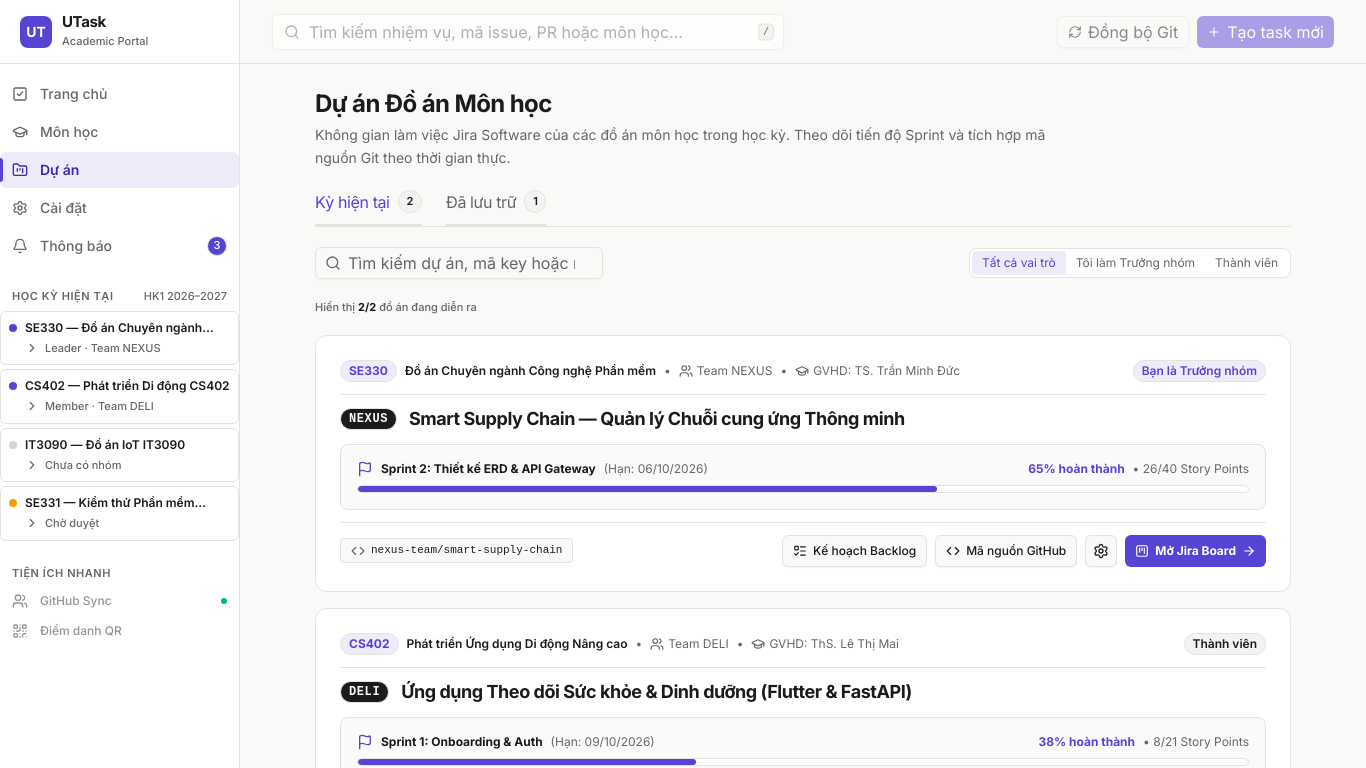
Scenario: projects list route › filters the list by search query
Expected: the heading "Dự án Đồ án Môn học" is shown, [315, 89, 552, 118]
Type "nexus" into the search field named "Tìm kiếm dự án theo tên, mã môn học hoặc project key".
click(459, 262); type("nexus")  # box [315, 246, 603, 278]
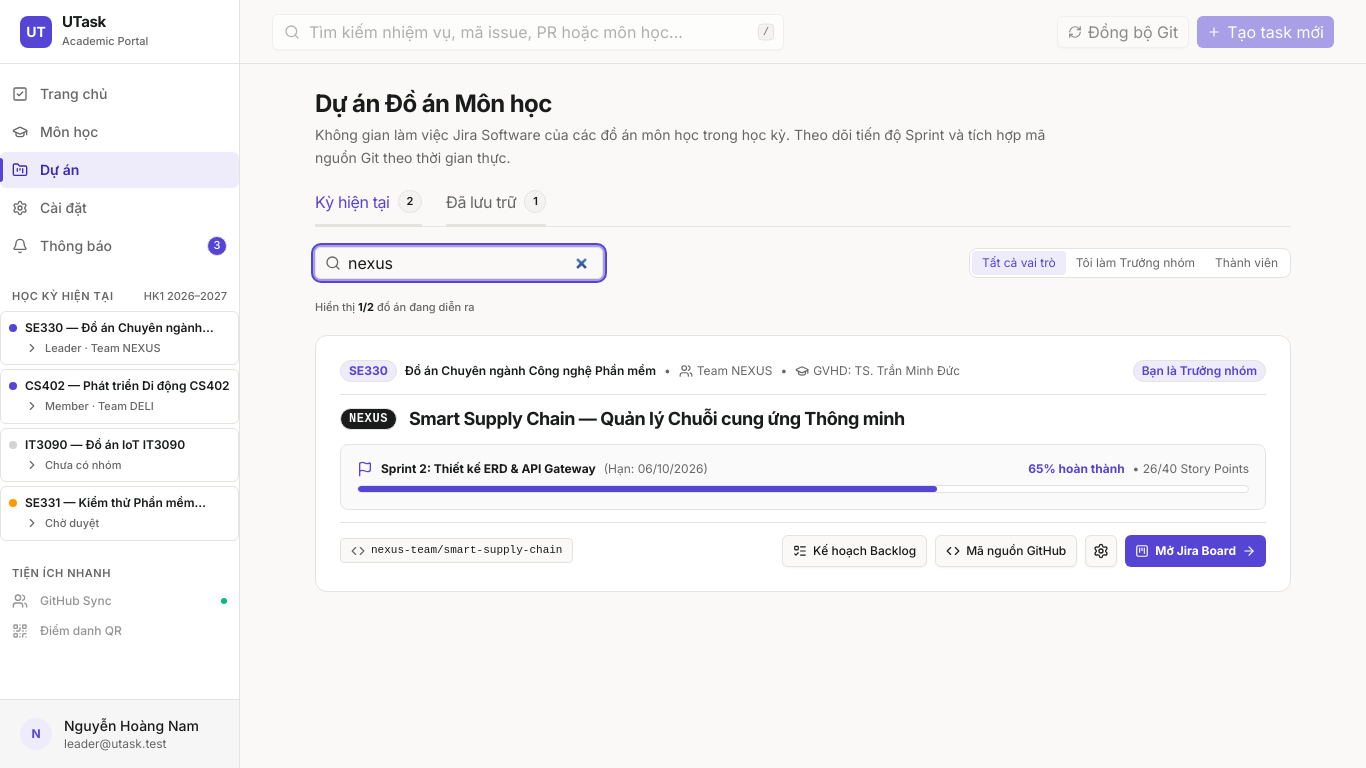
Expected: the link "Smart Supply Chain — Quản lý Chuỗi cung ứng Thông minh" is shown, [409, 407, 905, 432]
Now the link "Theo dõi Sức khỏe" is gone
